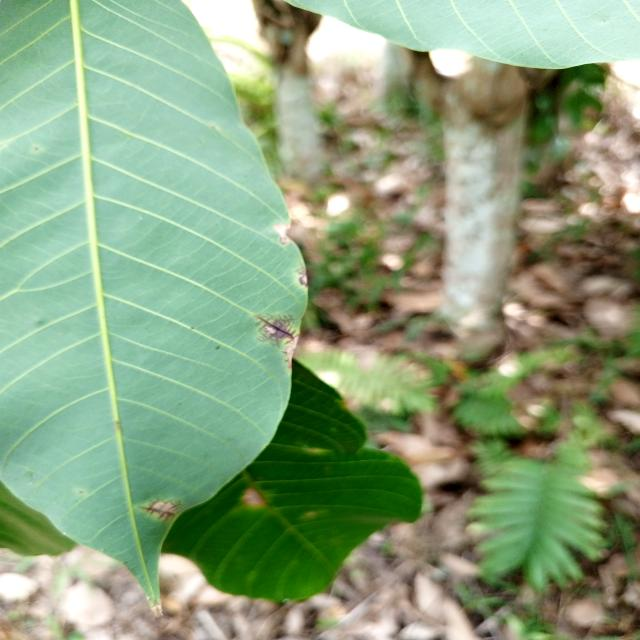Corynespora: (254, 314, 298, 347), (139, 502, 176, 519)
